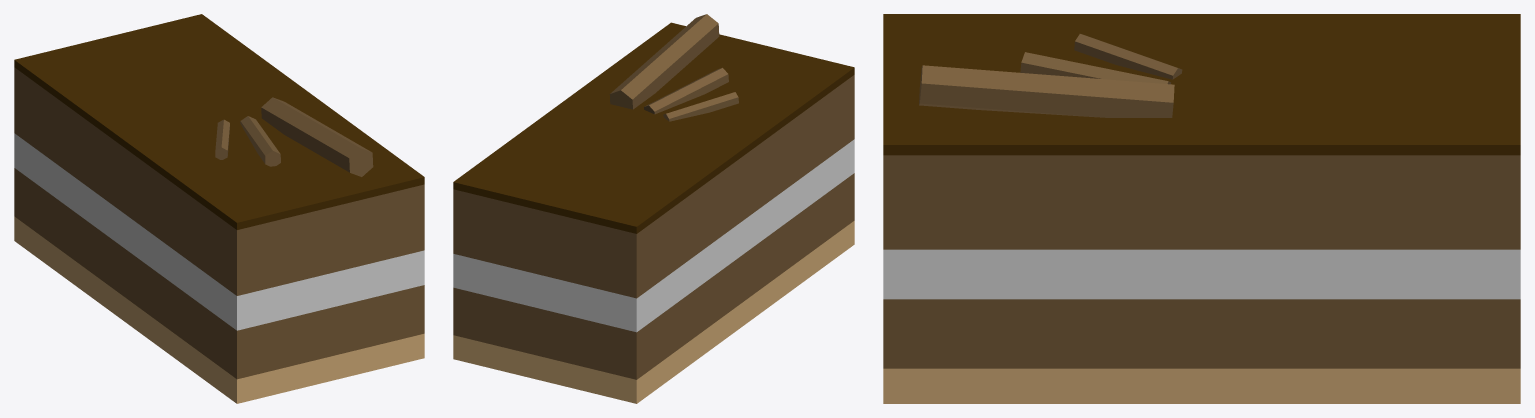
The model's file is C_Chocolate_Cake_1.fbx.
3 renders of one model, left to right at view 1: azimuth 30°, elevation 25°; view 2: azimuth 150°, elevation 25°; view 3: azimuth 270°, elevation 25°, orthographic. The views are drawn at different scales.
Visible parts, largest first — view 1: C_Chocolate_Cake_1; view 2: C_Chocolate_Cake_1; view 3: C_Chocolate_Cake_1.
Boxes of the visible parts, <box> form: C_Chocolate_Cake_1: <box>14,14,424,403</box>; C_Chocolate_Cake_1: <box>453,14,854,403</box>; C_Chocolate_Cake_1: <box>883,14,1520,403</box>.
Size of the model in its own units: 44.61 by 91.72 by 48.19.
